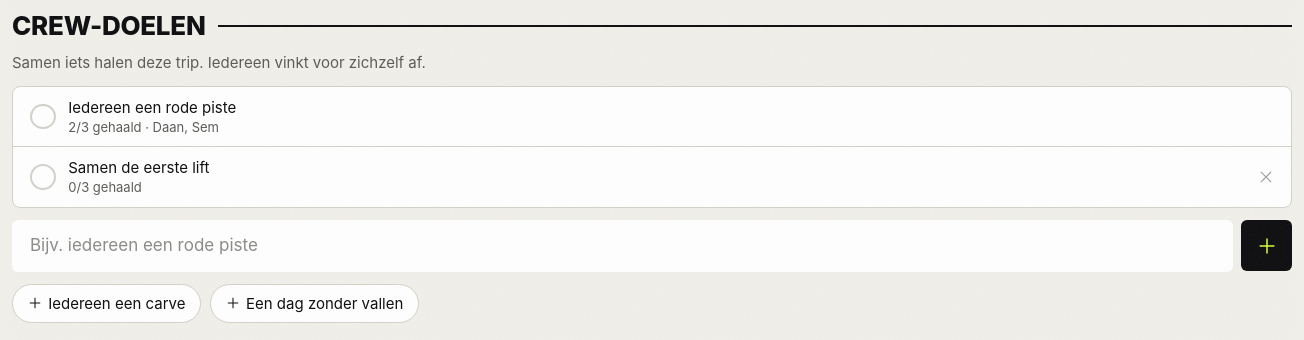
it: crew-doelen › een trage refresh overschrijft je net gezette vinkje niet
Click the checkbox labelled "Samen de eerste lift 0/3 gehaald".
click(139, 168)  # box [13,147,1240,206]
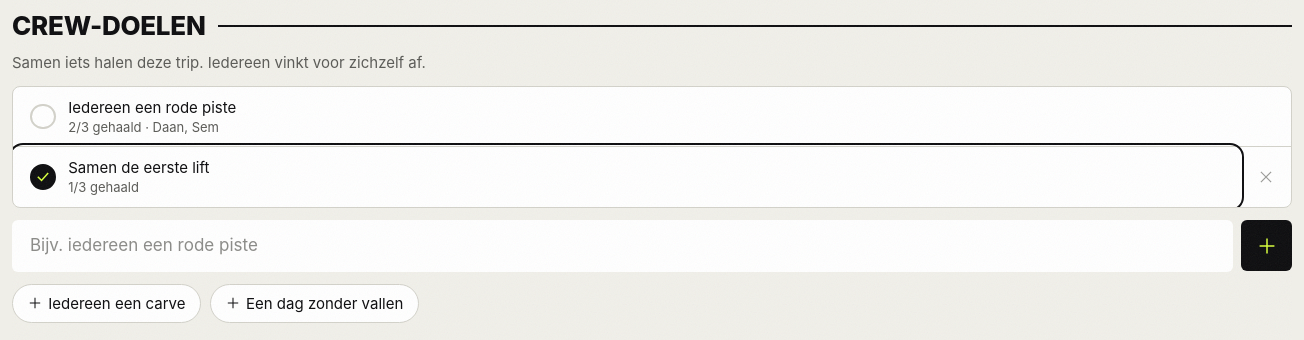
Expected: the text "1/3 gehaald" is shown, [68,179,139,195]
